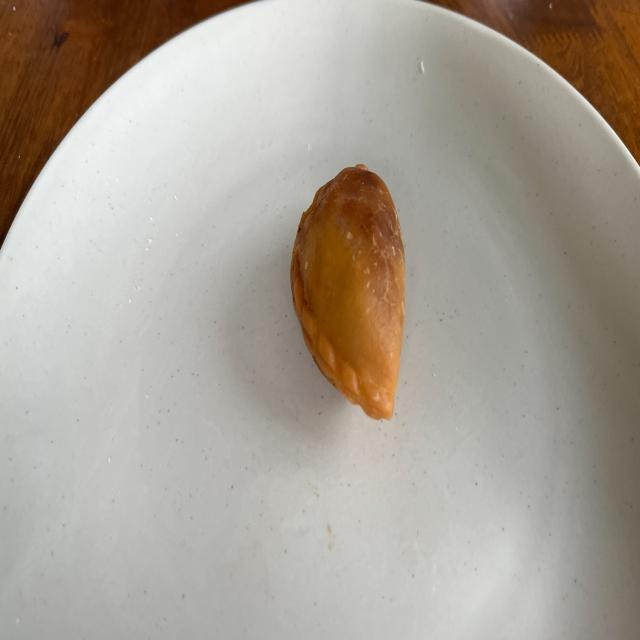karipap: (290, 164, 405, 420)
